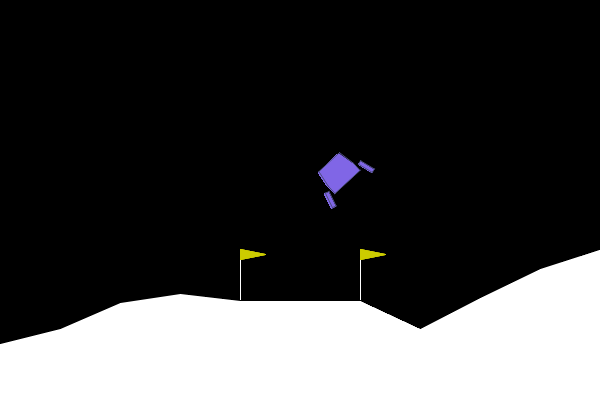lander: (305, 141, 376, 211)
